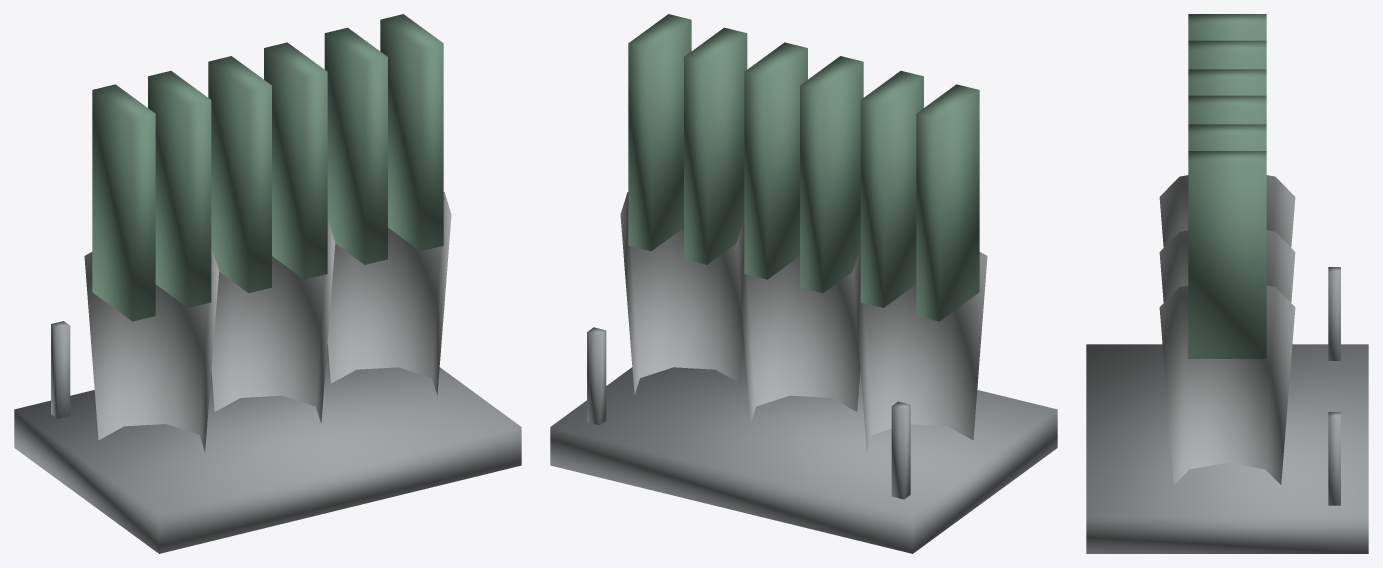
File: standing_floral_display__reinforced.glb
The picture shows the model from 3 angles, left to right: view 1: azimuth 30°, elevation 25°; view 2: azimuth 150°, elevation 25°; view 3: azimuth 270°, elevation 25°; orthographic projection. The views are drawn at different scales.
Visible parts, largest first — view 1: world; view 2: world; view 3: world.
Part boxes in pixels (x1,y1,x2,y2): world: [14, 14, 521, 553]; world: [550, 14, 1057, 553]; world: [1086, 14, 1368, 553].
Size of the model in its own units: 0.8034 by 0.8262 by 0.5562.
